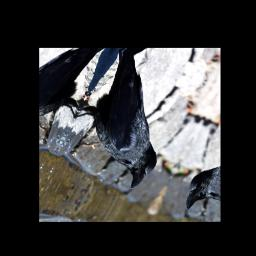Crow: (51, 49, 202, 194)
